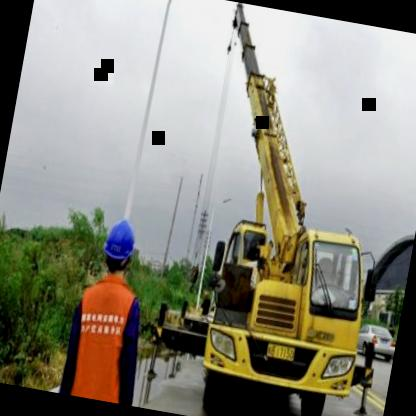helmet: (96, 209, 141, 282)
